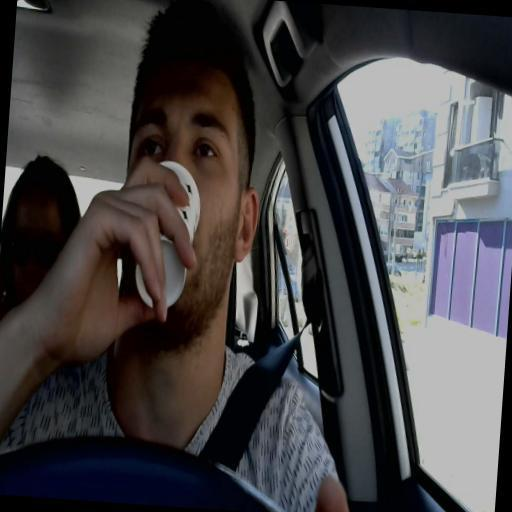Drinking: (87, 71, 255, 337)
